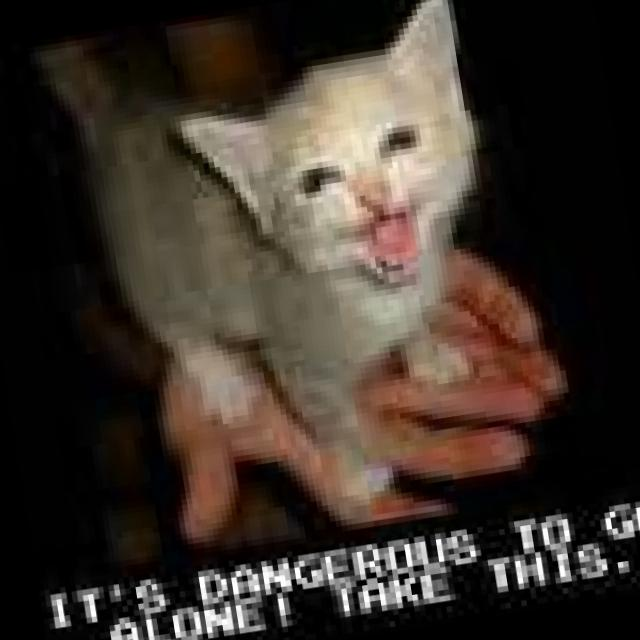cat: (26, 0, 568, 568)
